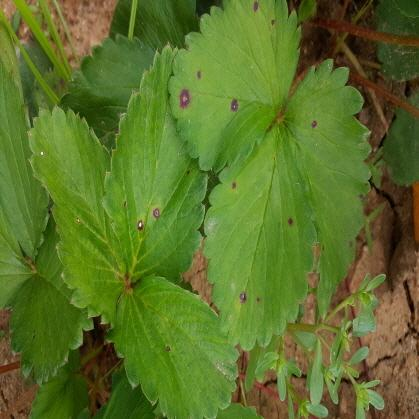Leaf Spot: (201, 116, 315, 351), (100, 42, 208, 284), (279, 57, 374, 320), (167, 0, 302, 173), (27, 104, 126, 324), (105, 275, 241, 418)
